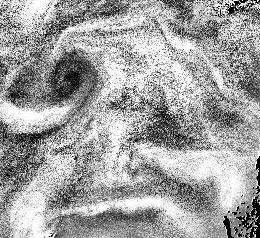CE: (48, 46, 103, 101)
